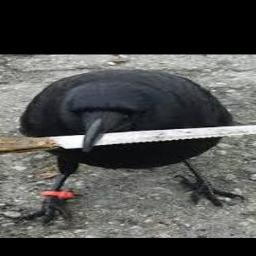Crow: (11, 69, 248, 224)
